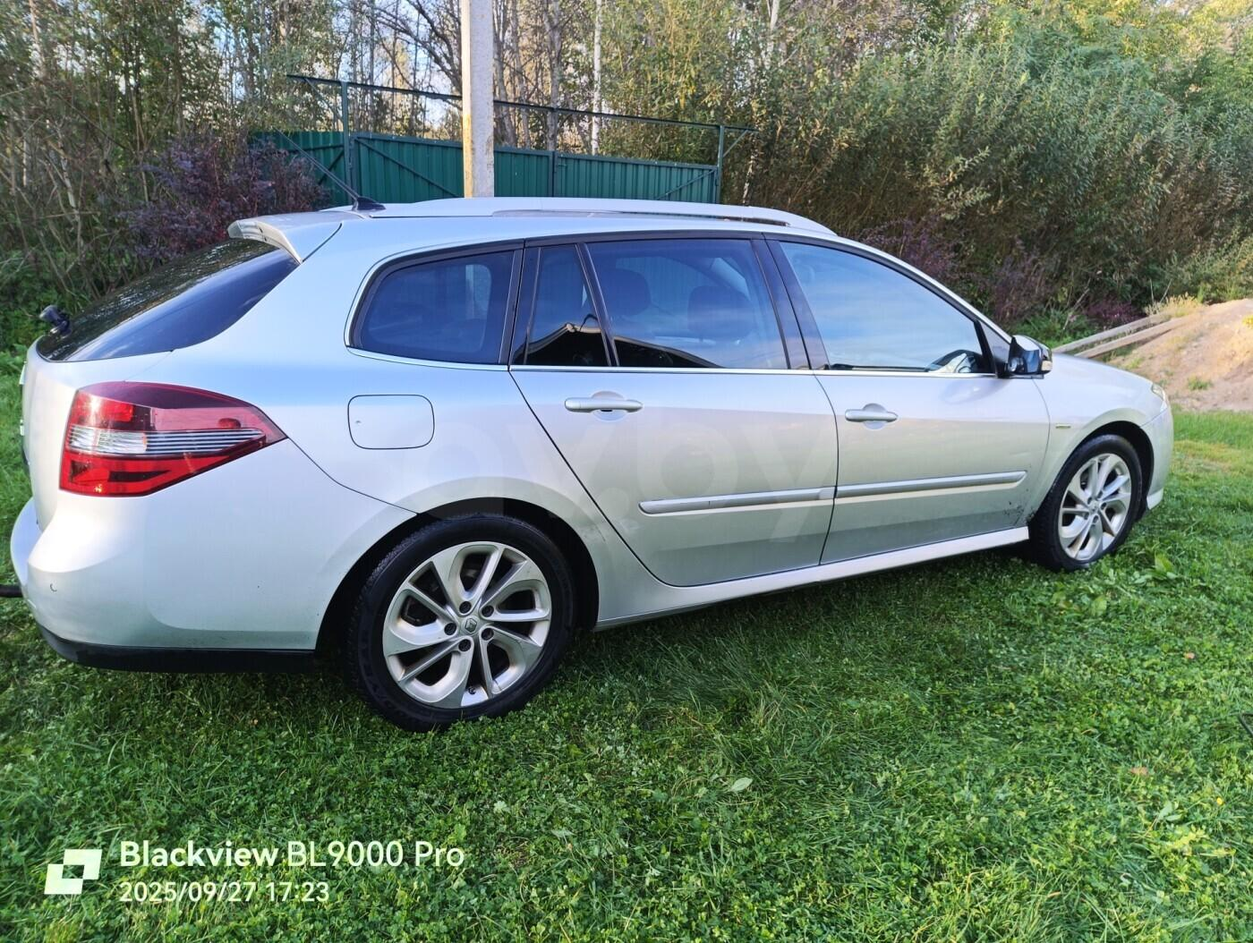Laguna_2010-2015: (0, 185, 1179, 722)
